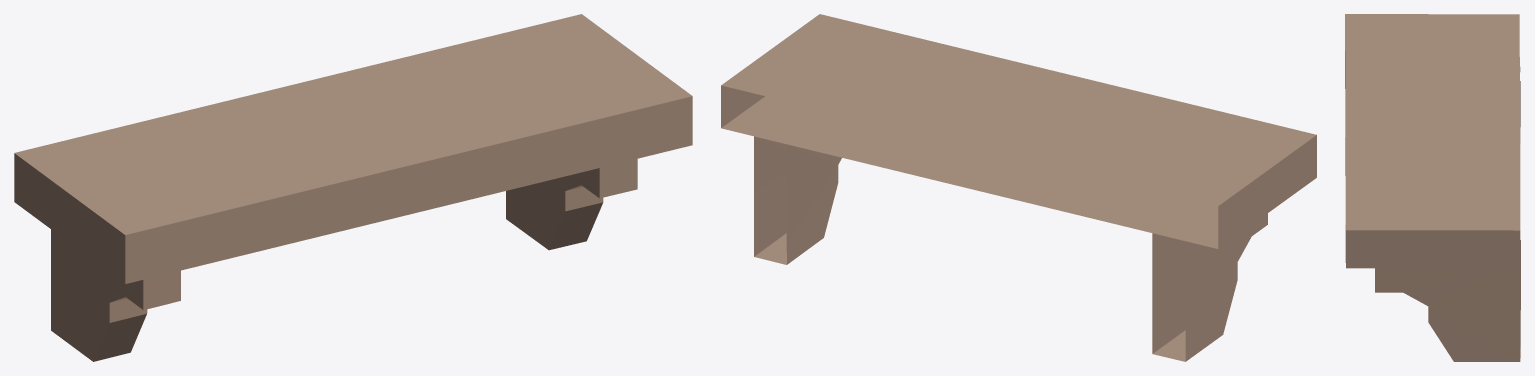
The model's file is Shelf_6.fbx.
The picture shows the model from 3 angles, left to right: view 1: azimuth 30°, elevation 25°; view 2: azimuth 150°, elevation 25°; view 3: azimuth 270°, elevation 25°; orthographic projection. The views are drawn at different scales.
Visible parts, largest first — view 1: Shelf_6; view 2: Shelf_6; view 3: Shelf_6.
Part boxes in pixels (<box>): Shelf_6: <box>14,14,692,361</box>; Shelf_6: <box>721,14,1316,361</box>; Shelf_6: <box>1345,14,1520,361</box>.
Size of the model in its own units: 143 by 49.28 by 45.05.
